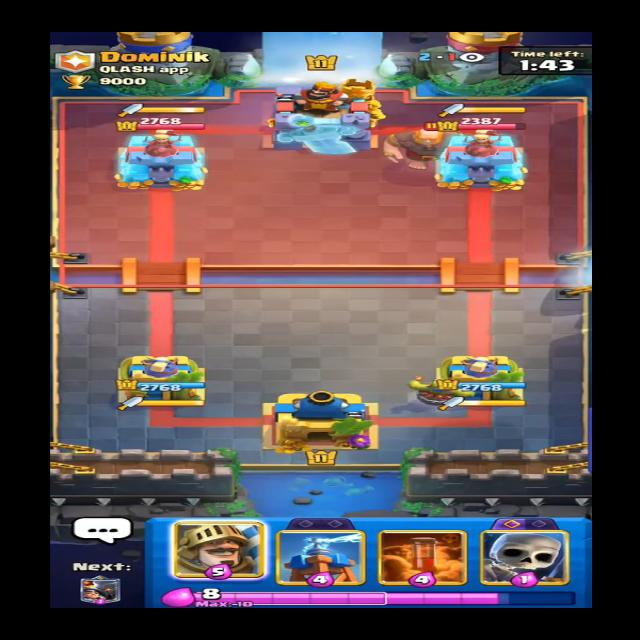giant: (380, 117, 475, 168)
